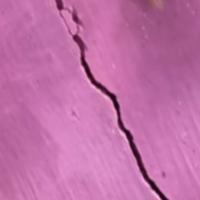crack: (53, 1, 171, 199)
